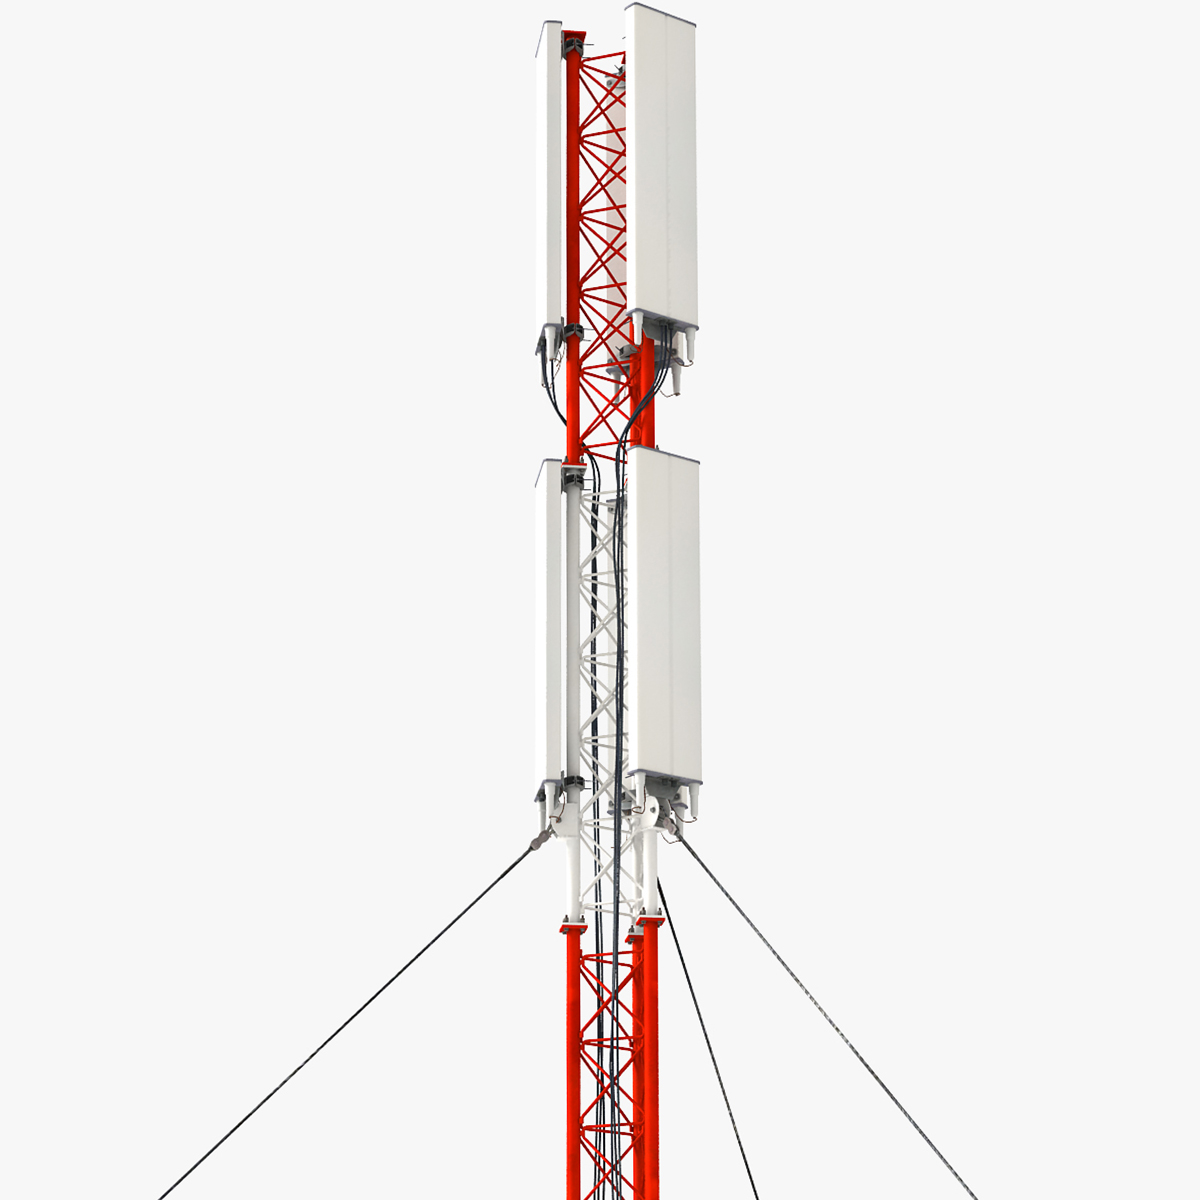a: (614, 1, 702, 397), (622, 437, 704, 835), (523, 454, 591, 827), (524, 16, 586, 371)
